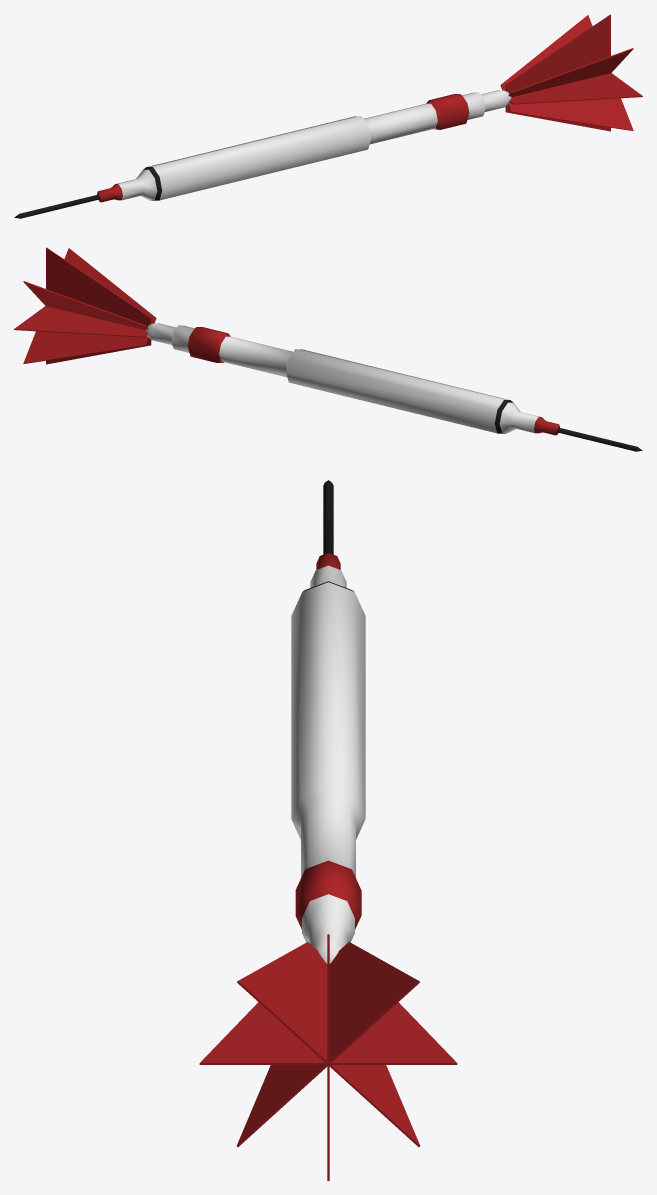
The model's file is Ammo_Dart.fbx.
3 renders of one model, top to bottom at view 1: azimuth 30°, elevation 25°; view 2: azimuth 150°, elevation 25°; view 3: azimuth 270°, elevation 25°, orthographic. The views are drawn at different scales.
Visible parts, largest first — view 1: Cube.001; view 2: Cube.001; view 3: Cube.001.
Part boxes in pixels (x1,y1,x2,y2): Cube.001: (14,14,642,218); Cube.001: (14,247,642,451); Cube.001: (199,480,457,1180).
Size of the model in its own units: 756 by 141 by 141.
